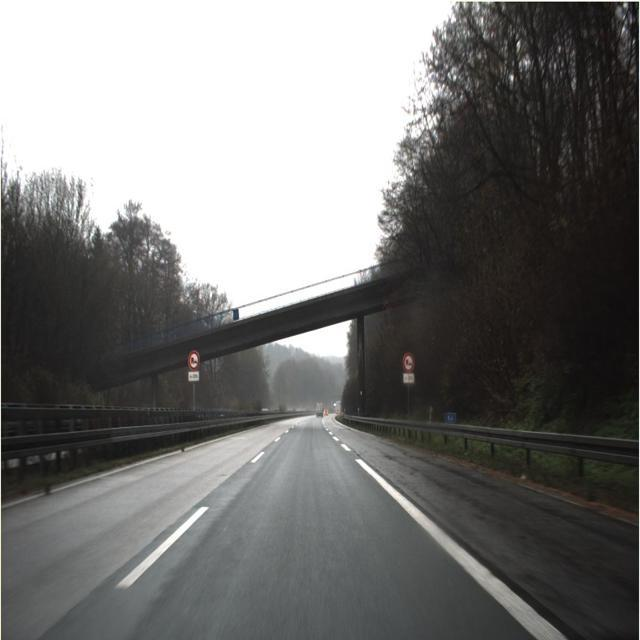forb_overtake_trucks: (187, 350, 200, 372), (402, 351, 415, 373)
